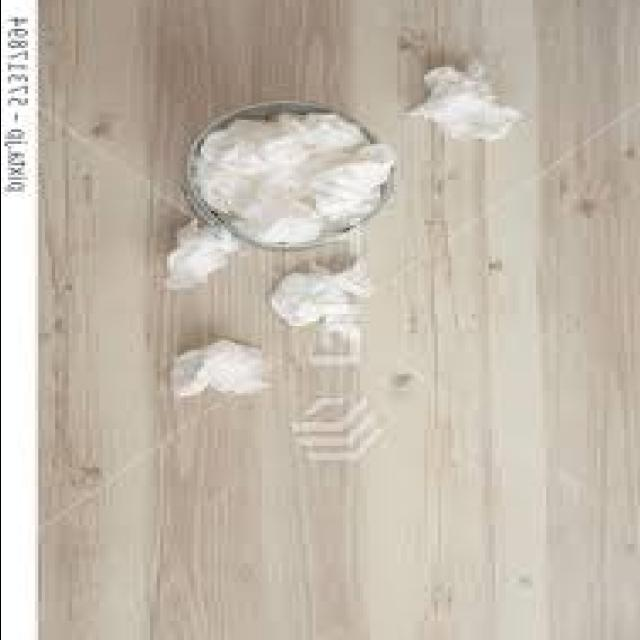tissue: (408, 65, 525, 141), (268, 259, 365, 326), (164, 219, 243, 291), (169, 340, 262, 397)
